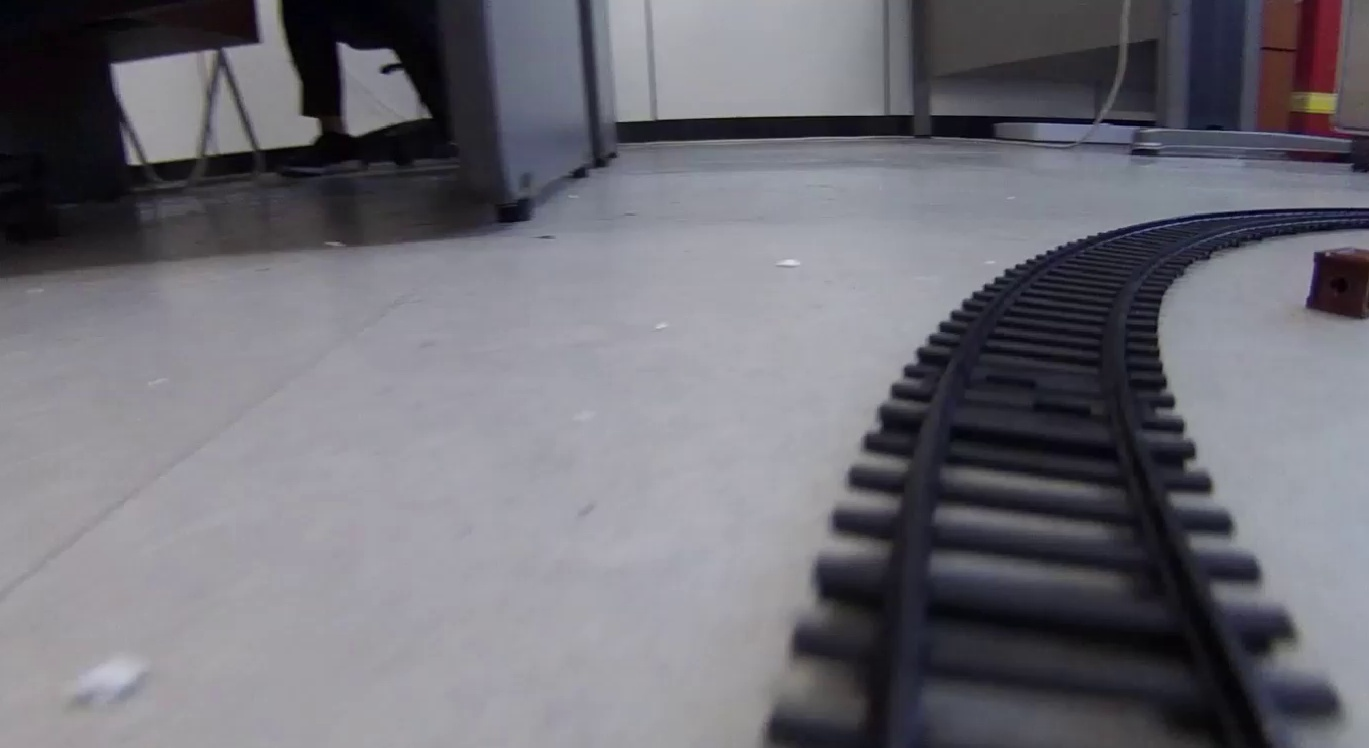box: (1306, 244, 1369, 322)
